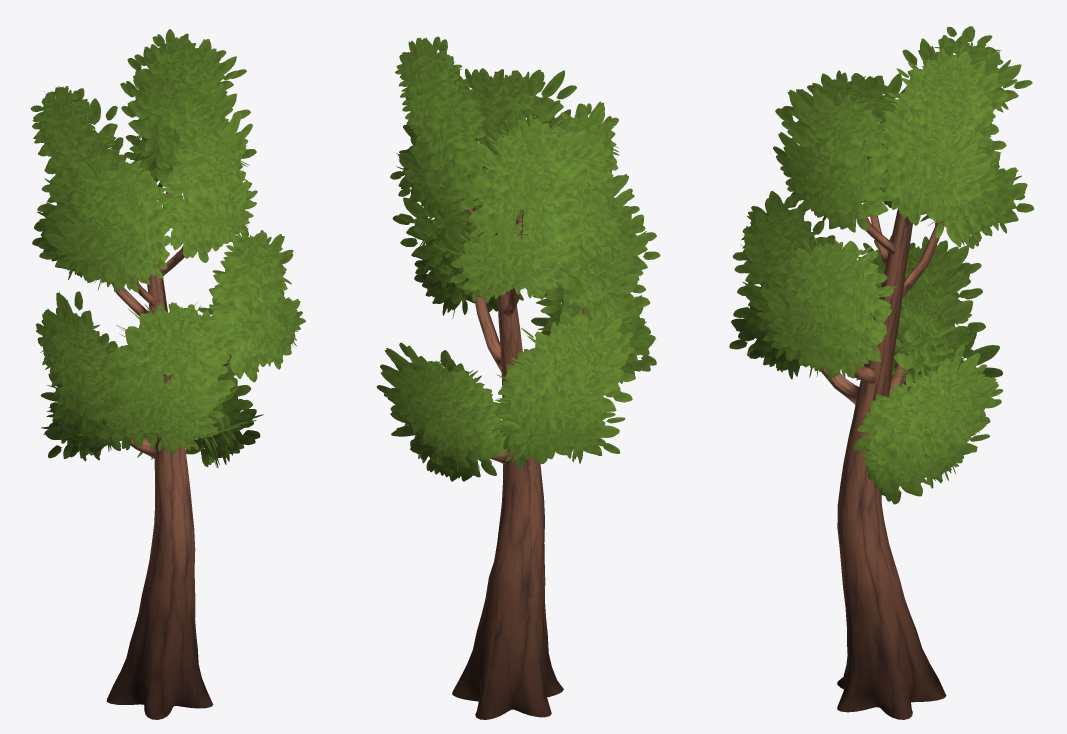
Rendered from Oak_3.glb.
3 views of the same model, side by side, from view 1: azimuth 30°, elevation 25°; view 2: azimuth 150°, elevation 25°; view 3: azimuth 270°, elevation 25° (orthographic). The views are drawn at different scales.
Parts seen in each view (by area): view 1: CommonTree_3; view 2: CommonTree_3; view 3: CommonTree_3.
Boxes of the visible parts, x1,y1,x2,y2 form: CommonTree_3: (30,29,305,719); CommonTree_3: (376,36,660,719); CommonTree_3: (729,26,1033,719).
Size of the model in its own units: 4.06 by 9.43 by 4.24.
2 materials, 2 textured.
